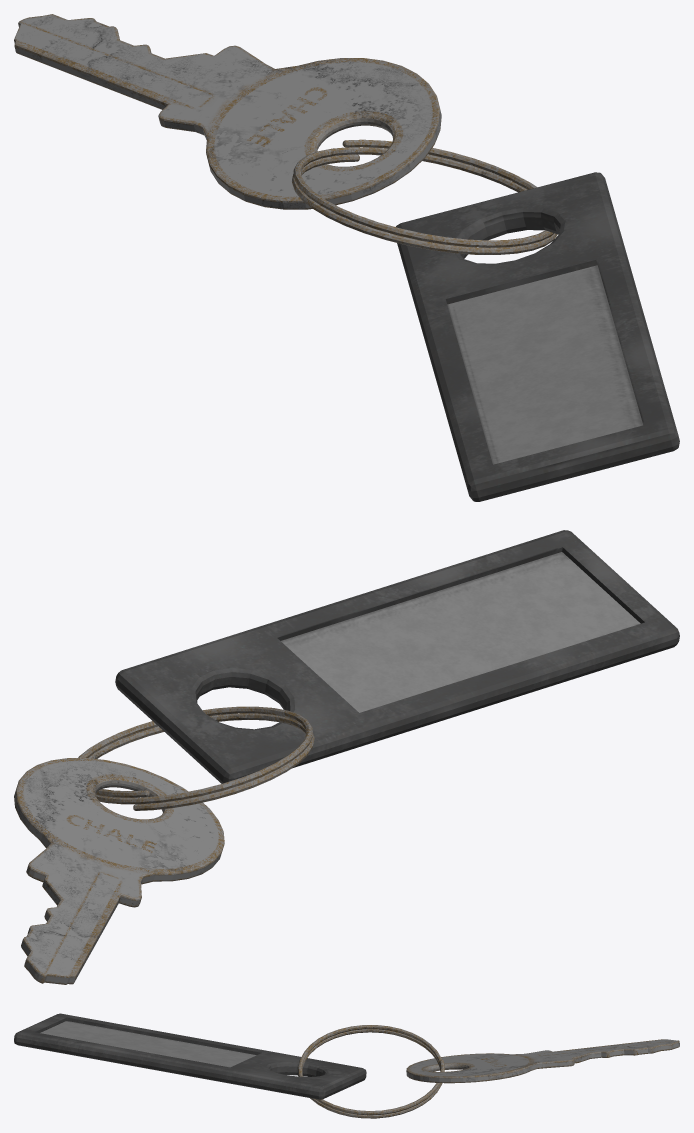
Rendered from cle.glb.
3 renders of one model, top to bottom at view 1: azimuth 30°, elevation 25°; view 2: azimuth 150°, elevation 25°; view 3: azimuth 270°, elevation 25°, orthographic. The views are drawn at different scales.
Size of the model in its own units: 0.0492 by 0.0083 by 0.1395.
3 materials, 3 textured.
